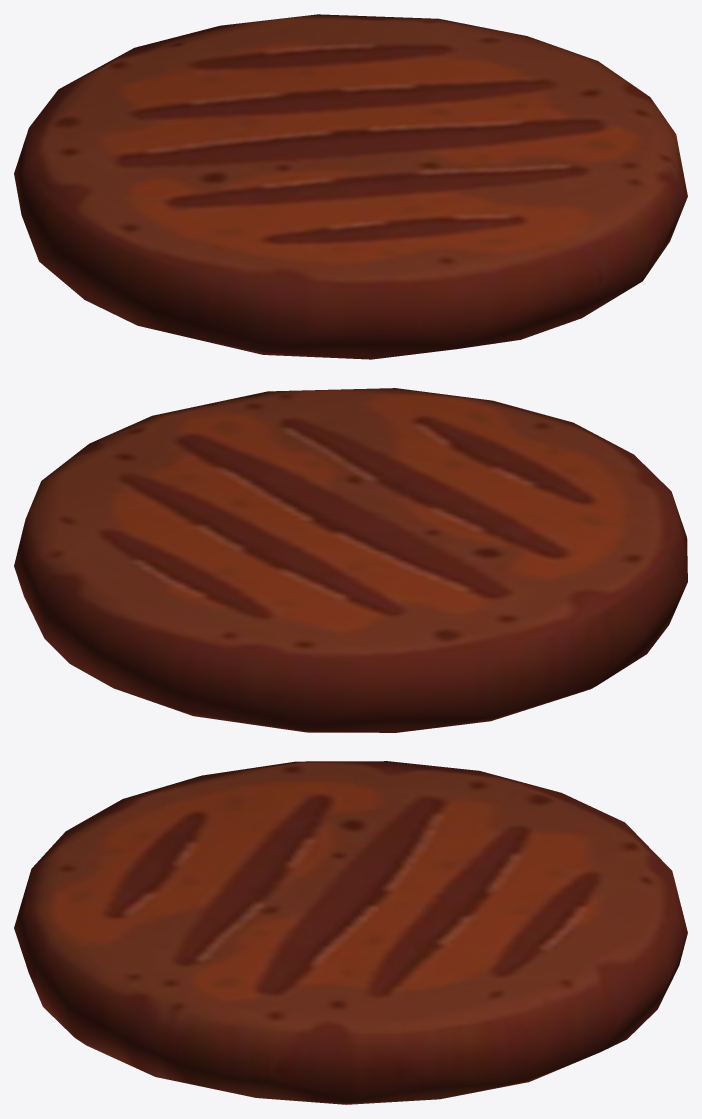
Rendered from yakipatttttttttttttttttttttttttttttttttttttttttttttttty.fbx.
3 views of the same model, one above another, from view 1: azimuth 30°, elevation 25°; view 2: azimuth 150°, elevation 25°; view 3: azimuth 270°, elevation 25° (orthographic).
Visible parts, largest first — view 1: burger_3_lod0; view 2: burger_3_lod0; view 3: burger_3_lod0.
Boxes of the visible parts, x1,y1,x2,y2 form: burger_3_lod0: (14, 14, 687, 359); burger_3_lod0: (14, 388, 687, 732); burger_3_lod0: (14, 761, 687, 1104).
Bounding box in the file's own units: 56.31 × 7.31 × 56.63.
